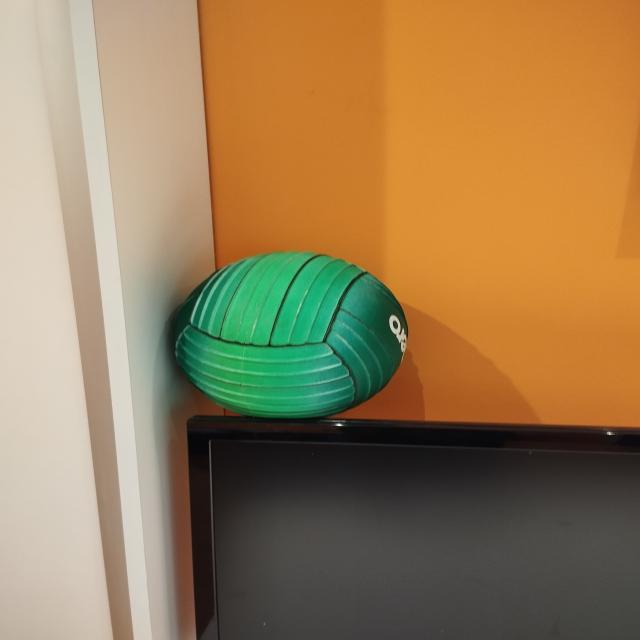zielona: (173, 251, 409, 419)
